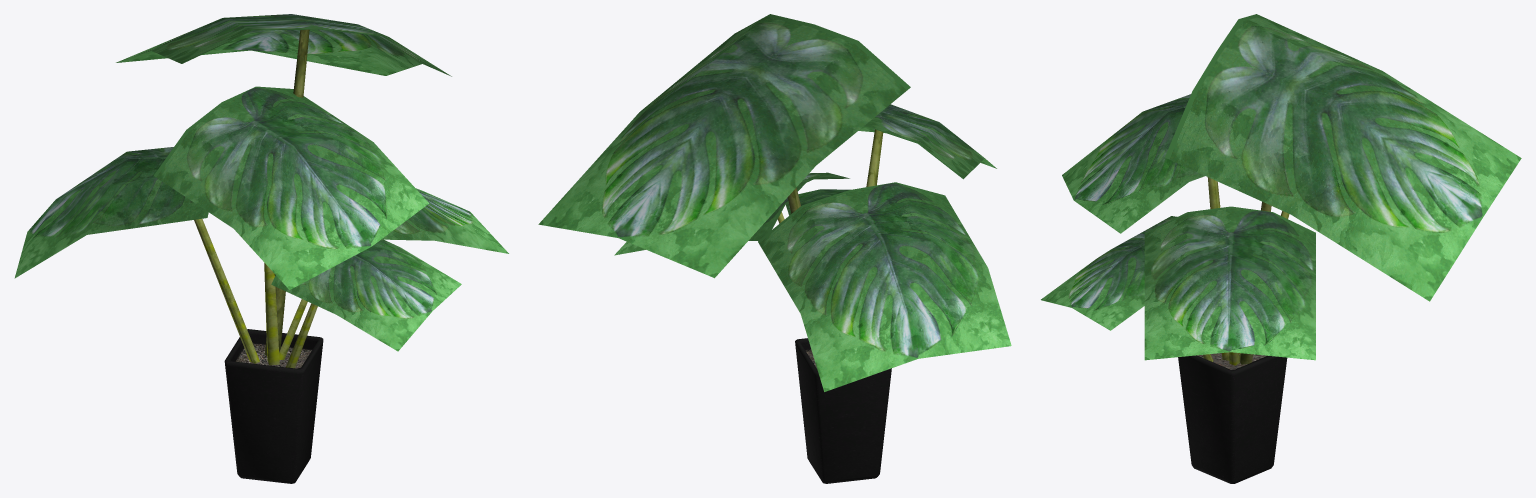
File: Furniture_foliageplant_03b_LOD1.fbx
3 views of the same model, side by side, from view 1: azimuth 30°, elevation 25°; view 2: azimuth 150°, elevation 25°; view 3: azimuth 270°, elevation 25° (orthographic).
Visible parts, largest first — view 1: F_foliageplant_03b_2, F_foliageplant_03b_1; view 2: F_foliageplant_03b_2, F_foliageplant_03b_1; view 3: F_foliageplant_03b_2, F_foliageplant_03b_1.
Boxes of the visible parts, x1,y1,x2,y2 form: F_foliageplant_03b_2: [14, 14, 508, 368]; F_foliageplant_03b_1: [224, 329, 323, 483]; F_foliageplant_03b_2: [538, 14, 1011, 391]; F_foliageplant_03b_1: [795, 338, 891, 483]; F_foliageplant_03b_2: [1041, 14, 1521, 365]; F_foliageplant_03b_1: [1178, 353, 1287, 483].
Size of the model in its own units: 0.6292 by 0.623 by 0.618.
Materials: 2 (2 with a texture image).
